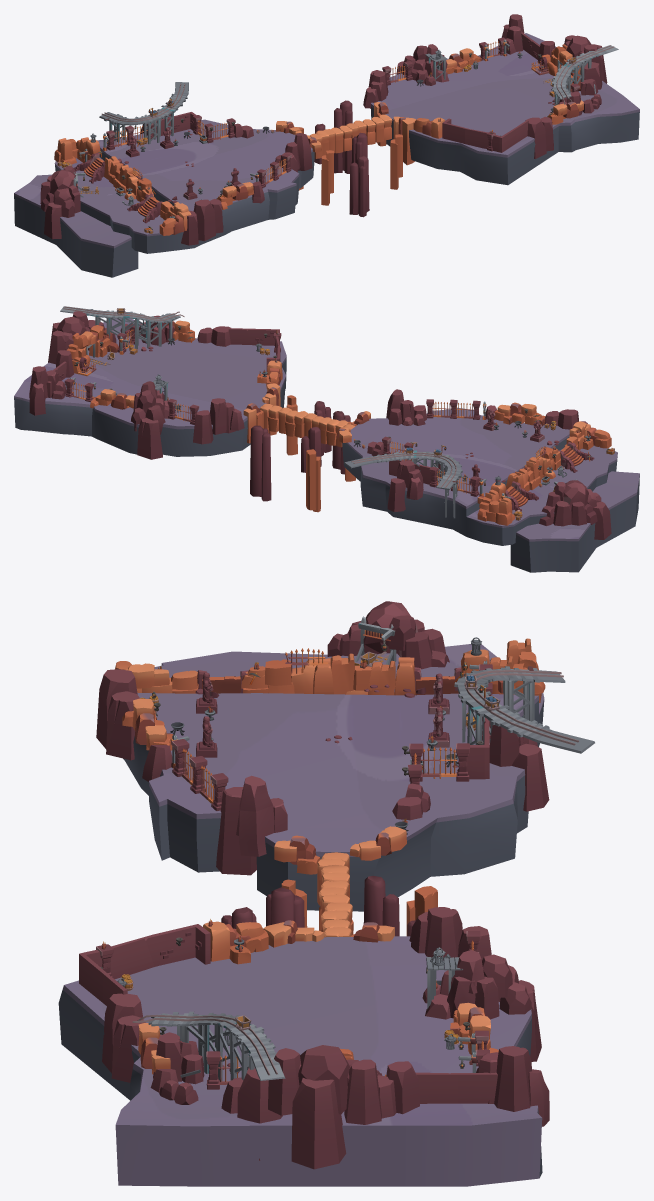
The model's file is Level 3.fbx.
3 renders of one model, top to bottom at view 1: azimuth 30°, elevation 25°; view 2: azimuth 150°, elevation 25°; view 3: azimuth 270°, elevation 25°, orthographic. The views are drawn at different scales.
Visible parts, largest first — view 1: Plane.006, Plane.007, Cube.221, Cube.228, Cube.599, Cube.391, Cube.635, Cube.231, Circle.338, Cube.394, Circle.011, Circle.345 (+8 smaller); view 2: Plane.006, Plane.007, Cube.221, Cube.231, Cube.599, Circle.028, Cube.394, Cube.635, Cube.233, Circle.030, Circle.032, Cube.229 (+10 smaller); view 3: Plane.007, Plane.006, Circle.337, Cube.391, Cube.599, Cube.221, Cube.400, Circle.047, Cube.635, Circle.039, Circle.043, Circle.270 (+26 smaller).
Boxes of the visible parts, bbox=[...] form: Plane.006: bbox=[14, 119, 314, 277]; Plane.007: bbox=[371, 33, 639, 185]; Cube.221: bbox=[307, 114, 392, 158]; Cube.228: bbox=[349, 156, 369, 217]; Cube.599: bbox=[99, 82, 188, 125]; Cube.391: bbox=[442, 118, 488, 148]; Cube.635: bbox=[551, 45, 618, 99]; Cube.231: bbox=[334, 100, 352, 173]; Circle.338: bbox=[193, 199, 215, 241]; Cube.394: bbox=[492, 120, 528, 152]; Circle.011: bbox=[525, 117, 546, 158]; Circle.345: bbox=[44, 202, 61, 239]; Plane.006: bbox=[342, 407, 639, 572]; Plane.007: bbox=[14, 318, 286, 456]; Cube.221: bbox=[260, 403, 355, 447]; Cube.231: bbox=[250, 425, 271, 501]; Cube.599: bbox=[344, 450, 462, 489]; Circle.028: bbox=[137, 417, 162, 459]; Cube.394: bbox=[228, 328, 279, 345]; Cube.635: bbox=[60, 306, 180, 322]; Cube.233: bbox=[306, 449, 316, 510]; Circle.030: bbox=[193, 410, 213, 444]; Circle.032: bbox=[210, 398, 226, 434]; Cube.229: bbox=[301, 427, 321, 472]; Plane.007: bbox=[58, 936, 542, 1186]; Plane.006: bbox=[123, 644, 544, 911]; Circle.337: bbox=[291, 1078, 346, 1169]; Cube.391: bbox=[110, 924, 210, 979]; Cube.599: bbox=[454, 666, 594, 753]; Cube.221: bbox=[317, 852, 353, 937]; Cube.400: bbox=[416, 1072, 497, 1103]; Circle.047: bbox=[239, 775, 274, 856]; Cube.635: bbox=[148, 1011, 285, 1080]; Circle.039: bbox=[494, 1046, 531, 1111]; Circle.043: bbox=[216, 787, 256, 875]; Circle.270: bbox=[344, 1059, 381, 1124].
Size of the model in its own units: 39.18 by 7.12 by 16.5.
